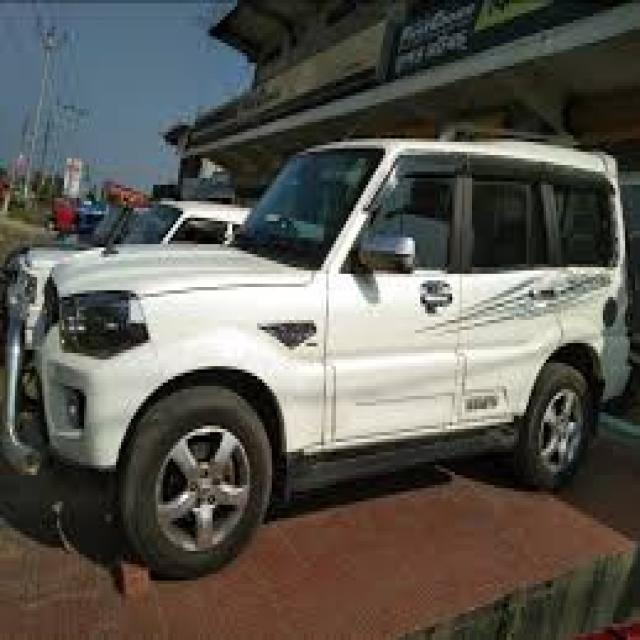Car: (36, 142, 630, 576)
